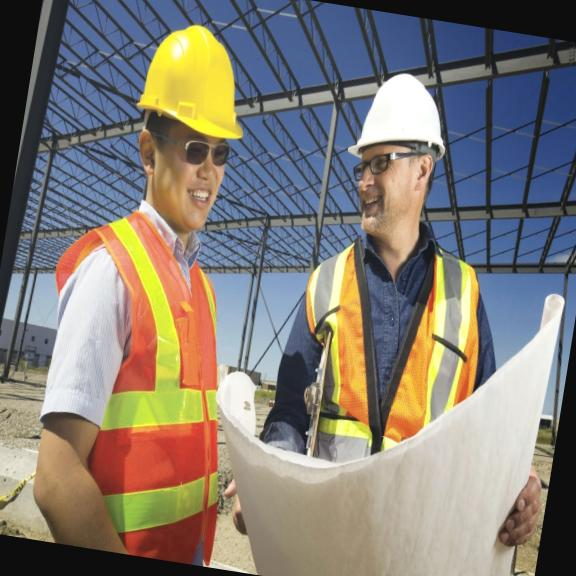safety_vest: (18, 209, 258, 567), (276, 242, 486, 482)
